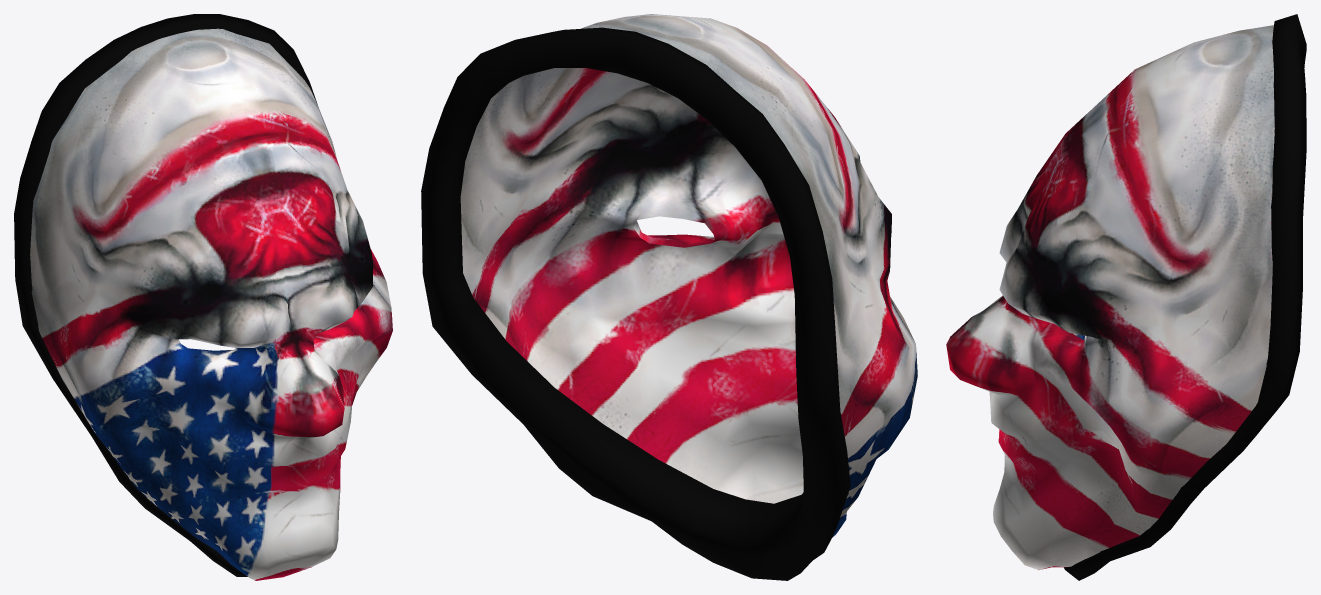
Rendered from dallas_mask.obj.
The picture shows the model from 3 angles, left to right: view 1: azimuth 30°, elevation 25°; view 2: azimuth 150°, elevation 25°; view 3: azimuth 270°, elevation 25°; orthographic projection. The views are drawn at different scales.
Visible parts, largest first — view 1: Dallas_Mask; view 2: Dallas_Mask; view 3: Dallas_Mask.
Boxes of the visible parts, <box> form: Dallas_Mask: <box>14,14,392,580</box>; Dallas_Mask: <box>421,14,917,580</box>; Dallas_Mask: <box>946,14,1306,580</box>.
Size of the model in its own units: 0.6683 by 1 by 0.6066.
